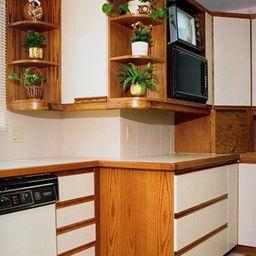Electrodomestico: (4, 175, 56, 255)
